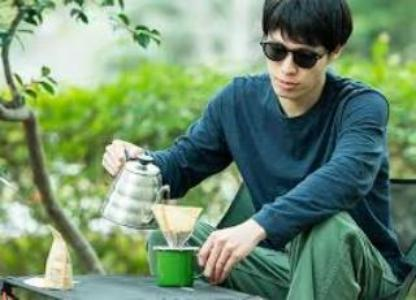person: (133, 0, 407, 300)
